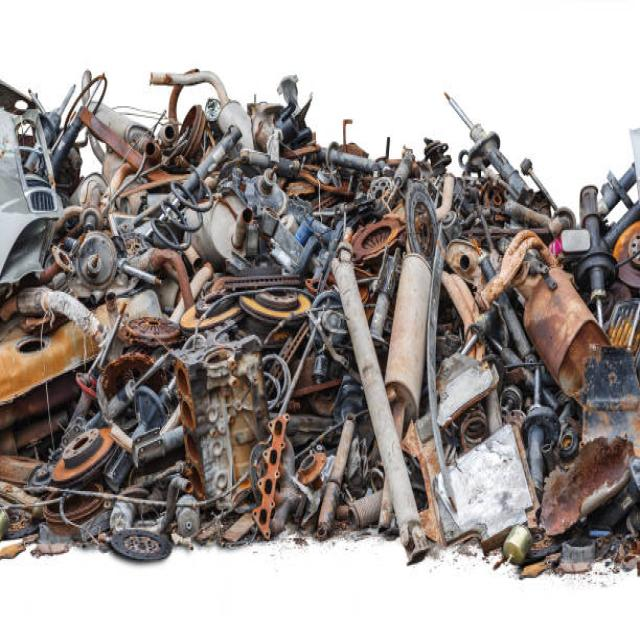metal: (24, 101, 640, 576)
